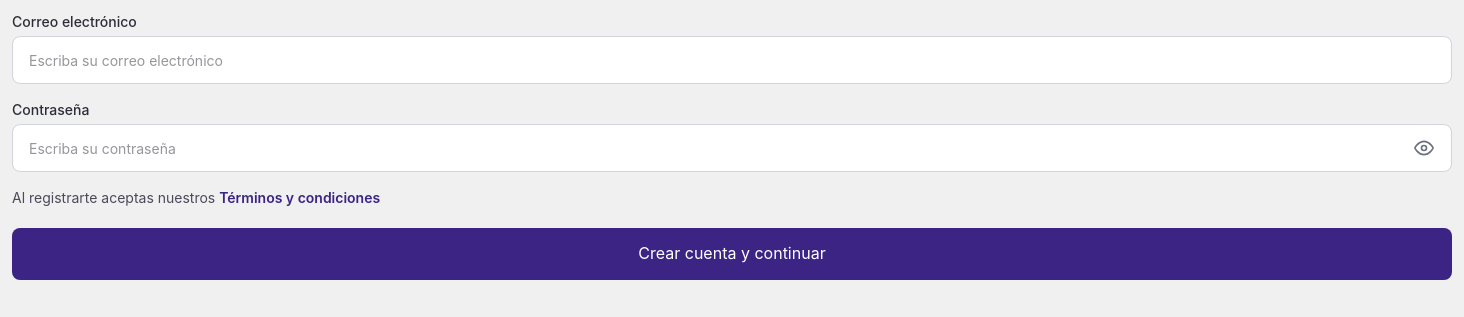
it: FormularioRegistroCorreo › valida reglas de contraseña con mensajes en español correcto
Step 1. Type "usuario@correo.com" into the field labelled "Correo electrónico" → (732, 60), box [12,36,1452,84]
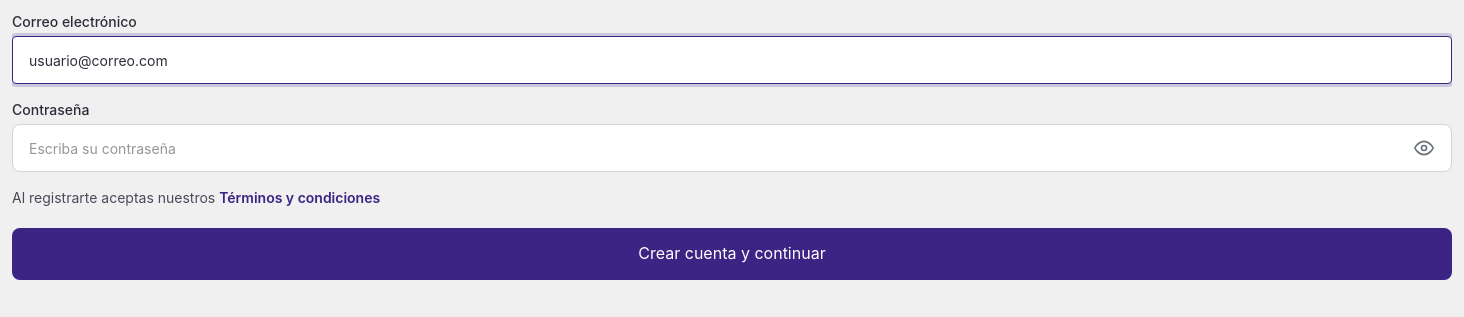
Step 2. Type "corta1" into the password field labelled "Contraseña" → (732, 148), box [12,124,1452,172]
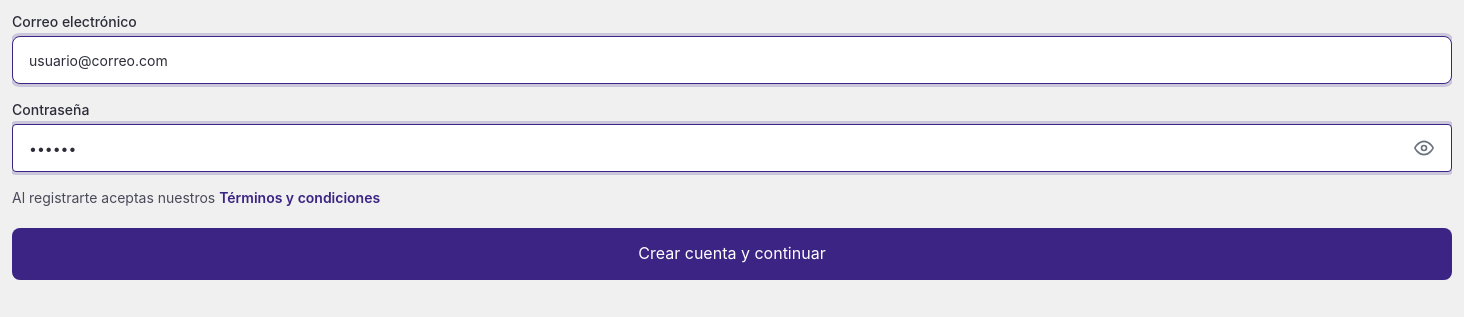
Step 3. Click the button "Crear cuenta y continuar" → (732, 254), box [12,228,1452,280]
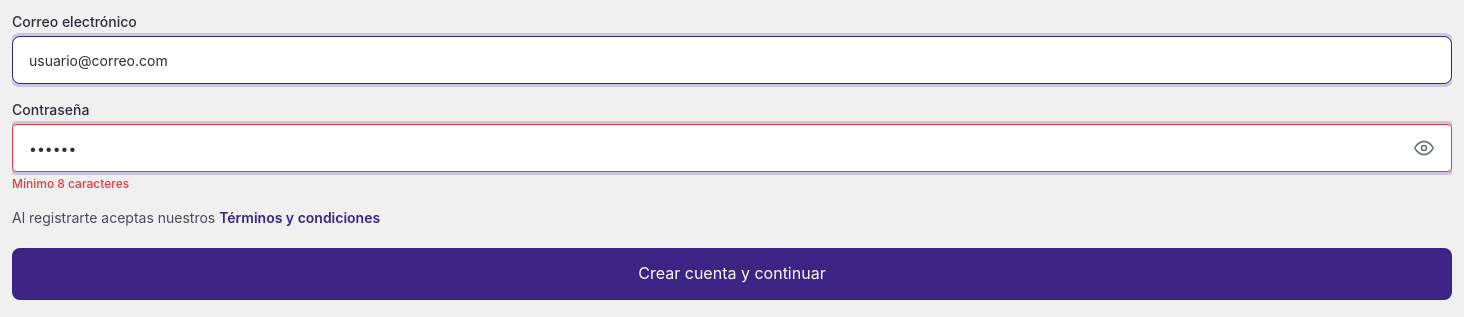
Now the text "Mínimo 8 caracteres" is shown, box [12,176,129,191]
